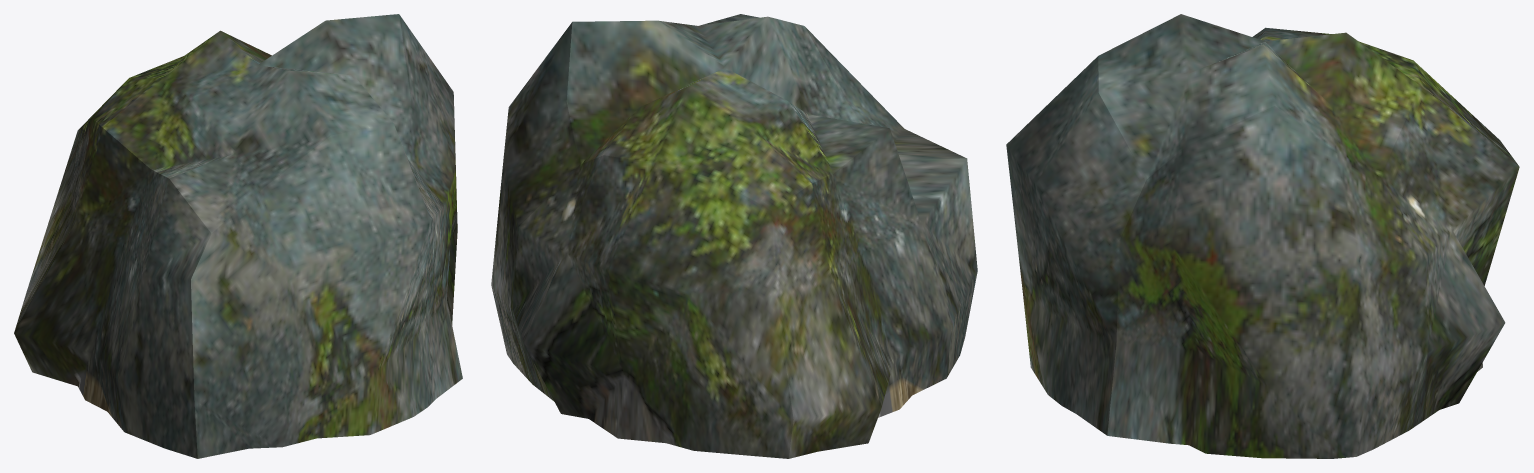
Rendered from Deco.RockD.fbx.
The picture shows the model from 3 angles, left to right: view 1: azimuth 30°, elevation 25°; view 2: azimuth 150°, elevation 25°; view 3: azimuth 270°, elevation 25°; orthographic projection. The views are drawn at different scales.
Visible parts, largest first — view 1: LP_Rock_01; view 2: LP_Rock_01; view 3: LP_Rock_01.
Part boxes in pixels (x1,y1,x2,y2): LP_Rock_01: (14,14,462,458); LP_Rock_01: (491,14,977,458); LP_Rock_01: (1006,14,1519,458).
Size of the model in its own units: 101 by 77.5 by 102.
